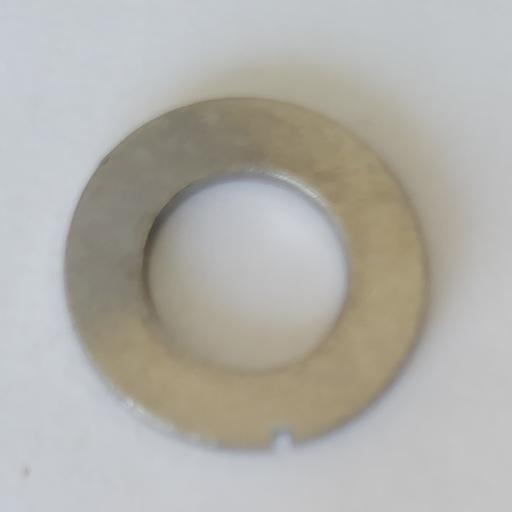burr: (274, 429, 298, 452)
